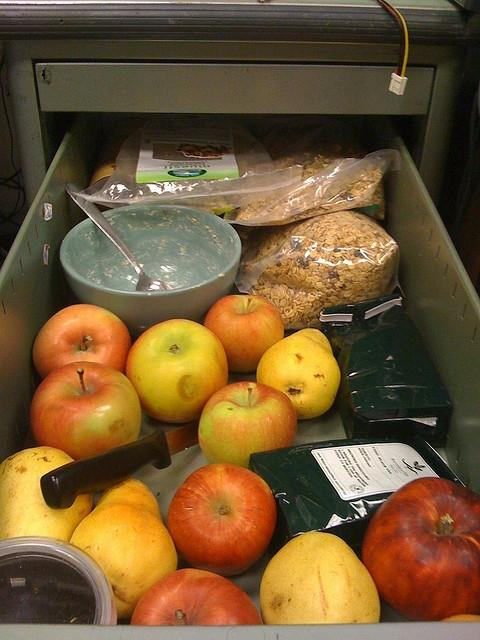apple: (361, 477, 480, 622), (168, 463, 276, 578), (30, 362, 142, 462), (126, 318, 228, 424), (200, 382, 299, 472), (256, 328, 341, 420), (32, 304, 132, 381), (130, 570, 260, 626), (203, 294, 284, 372)
pear: (69, 478, 178, 619), (259, 532, 380, 626), (2, 446, 92, 542), (256, 328, 342, 419)
